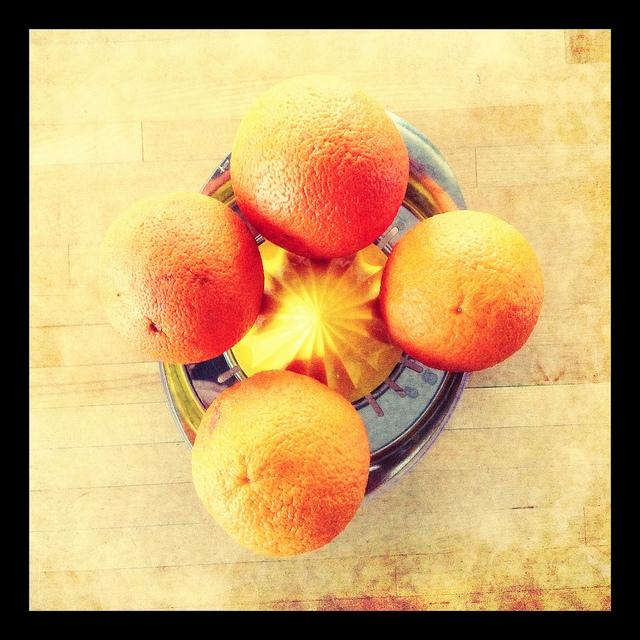orange: (232, 73, 412, 260), (191, 369, 370, 557), (97, 192, 264, 364), (380, 210, 545, 372)
